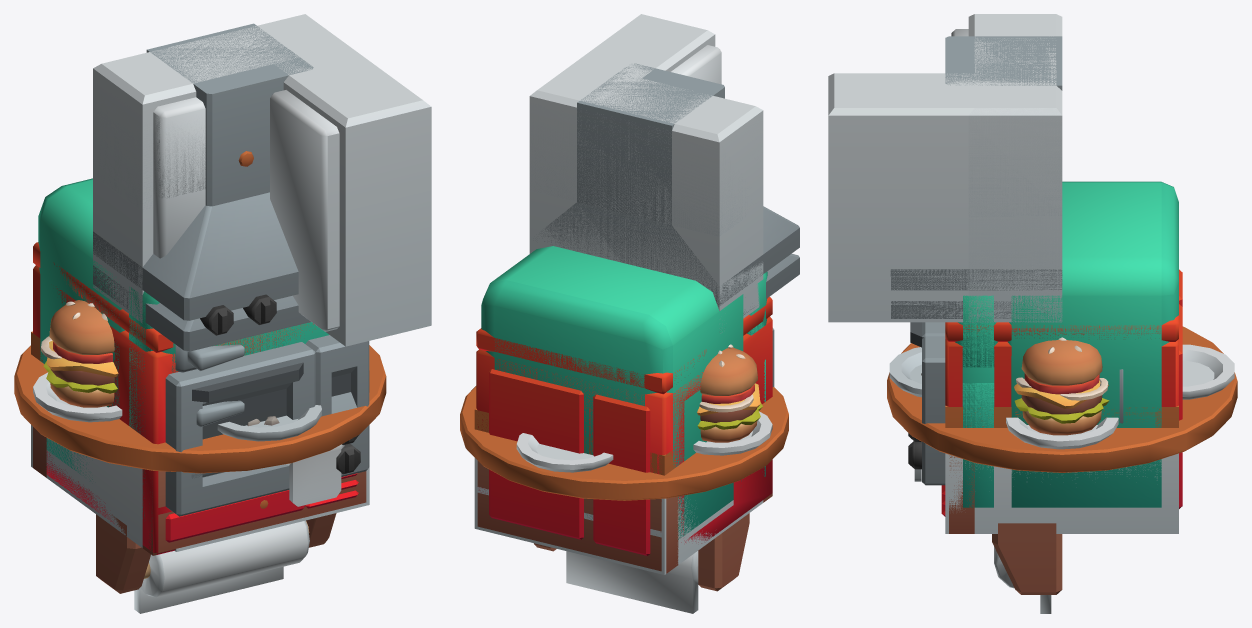
The model's file is mutfak.glb.
3 renders of one model, left to right at view 1: azimuth 30°, elevation 25°; view 2: azimuth 150°, elevation 25°; view 3: azimuth 270°, elevation 25°, orthographic. The views are drawn at different scales.
Parts seen in each view (by area): view 1: m_kitchencabinet_corner, m_extractorhood, m_kitchencabinet, m_oven, oven_door, m_table_round_A, m_shelf_papertowel_decorated, m_table_round_A_decorated, m_fridge_A_decorated, m_kitchencounter_straight_A, m_kitchencabinet_half, m_crate_tomatoes (+4 smaller); view 2: m_kitchencabinet, m_fridge_A_decorated, m_oven, m_extractorhood, m_table_round_A, m_table_round_A_decorated, m_kitchencabinet_corner, m_kitchencabinet_half, m_shelf_papertowel_decorated, m_crate_tomatoes, m_kitchencounter_straight_A, m_kitchencounter_innercorner_backsplash (+1 smaller); view 3: m_kitchencabinet_corner, m_fridge_A_decorated, m_kitchencabinet, m_table_round_A_decorated, m_table_round_A, m_extractorhood, m_oven, m_kitchencounter_straight_A, fridge_B_door, m_shelf_papertowel_decorated, m_kitchencabinet_half, m_kitchencounter_straight_A_backsplash (+5 smaller).
Part boxes in pixels (x1=…): m_kitchencabinet_corner: x1=113, y1=15, x2=431, y2=346; m_extractorhood: x1=93, y1=23, x2=313, y2=351; m_kitchencabinet: x1=93, y1=14, x2=347, y2=323; m_oven: x1=33, y1=242, x2=369, y2=554; oven_door: x1=165, y1=342, x2=315, y2=516; m_table_round_A: x1=14, y1=345, x2=386, y2=473; m_shelf_papertowel_decorated: x1=96, y1=513, x2=336, y2=613; m_table_round_A_decorated: x1=33, y1=300, x2=321, y2=441; m_fridge_A_decorated: x1=38, y1=178, x2=124, y2=480; m_kitchencounter_straight_A: x1=31, y1=425, x2=268, y2=547; m_kitchencabinet_half: x1=93, y1=70, x2=253, y2=210; m_crate_tomatoes: x1=33, y1=427, x2=366, y2=555; m_kitchencabinet: x1=529, y1=63, x2=763, y2=333; m_fridge_A_decorated: x1=481, y1=246, x2=743, y2=539; m_oven: x1=476, y1=296, x2=772, y2=555; m_extractorhood: x1=540, y1=63, x2=799, y2=315; m_table_round_A: x1=460, y1=386, x2=788, y2=500; m_table_round_A_decorated: x1=516, y1=344, x2=772, y2=472; m_kitchencabinet_corner: x1=532, y1=14, x2=751, y2=288; m_kitchencabinet_half: x1=529, y1=97, x2=763, y2=236; m_shelf_papertowel_decorated: x1=534, y1=513, x2=749, y2=613; m_crate_tomatoes: x1=477, y1=461, x2=772, y2=573; m_kitchencounter_straight_A: x1=474, y1=458, x2=763, y2=574; m_kitchencounter_innercorner_backsplash: x1=474, y1=452, x2=675, y2=573; m_kitchencabinet_corner: x1=828, y1=14, x2=1061, y2=322; m_fridge_A_decorated: x1=1008, y1=181, x2=1178, y2=507; m_kitchencabinet: x1=951, y1=14, x2=1062, y2=322; m_table_round_A_decorated: x1=889, y1=337, x2=1234, y2=449; m_table_round_A: x1=887, y1=326, x2=1237, y2=472; m_extractorhood: x1=890, y1=36, x2=1062, y2=318; m_oven: x1=908, y1=269, x2=1182, y2=516; m_kitchencounter_straight_A: x1=969, y1=454, x2=1178, y2=533; fridge_B_door: x1=956, y1=295, x2=996, y2=507; m_shelf_papertowel_decorated: x1=992, y1=523, x2=1062, y2=613; m_kitchencabinet_half: x1=968, y1=116, x2=1062, y2=216; m_kitchencounter_straight_A_backsplash: x1=974, y1=405, x2=1178, y2=533.
Size of the model in its own units: 3 by 4.91 by 3.5.
1 material, 1 textured.
